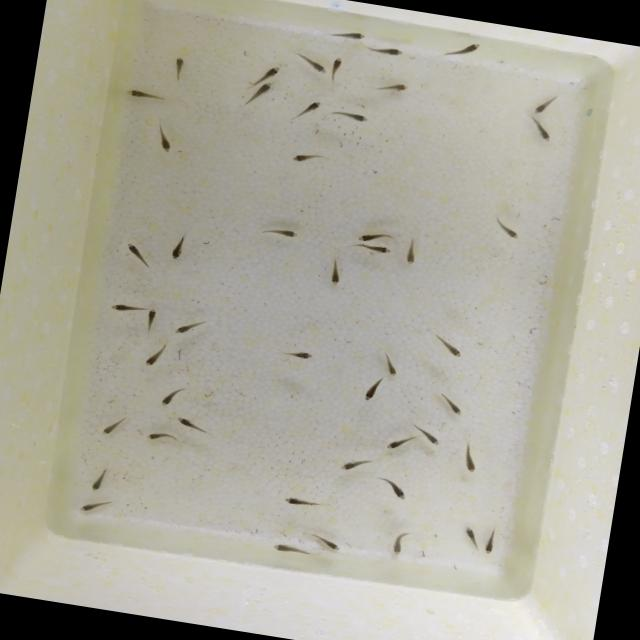fingerling: (372, 475, 414, 505), (442, 36, 484, 64), (486, 214, 524, 244), (252, 223, 304, 244), (120, 239, 154, 270), (304, 530, 348, 553), (389, 526, 418, 560), (437, 390, 468, 420), (278, 494, 324, 514), (434, 335, 468, 362), (160, 235, 190, 264), (352, 226, 392, 247), (288, 148, 330, 168), (150, 124, 176, 156), (248, 81, 275, 111), (160, 382, 186, 412), (382, 432, 414, 456), (294, 98, 326, 122), (144, 426, 182, 446), (338, 454, 376, 474), (528, 114, 552, 144), (173, 316, 201, 341), (376, 78, 411, 98), (328, 108, 369, 125), (533, 93, 562, 117), (126, 86, 166, 103), (102, 412, 126, 440), (142, 342, 166, 370), (362, 376, 384, 406), (382, 352, 404, 382), (86, 468, 110, 495), (270, 542, 310, 558), (324, 257, 344, 289), (172, 416, 211, 432), (418, 426, 446, 448), (461, 442, 479, 476), (282, 346, 316, 364), (332, 27, 368, 44), (347, 242, 390, 256), (402, 236, 422, 266), (374, 42, 404, 62), (327, 56, 349, 83), (78, 498, 110, 516), (302, 54, 328, 76), (170, 53, 188, 83), (110, 299, 141, 316), (461, 524, 479, 552), (482, 528, 498, 558), (256, 66, 282, 84), (144, 308, 162, 332)
